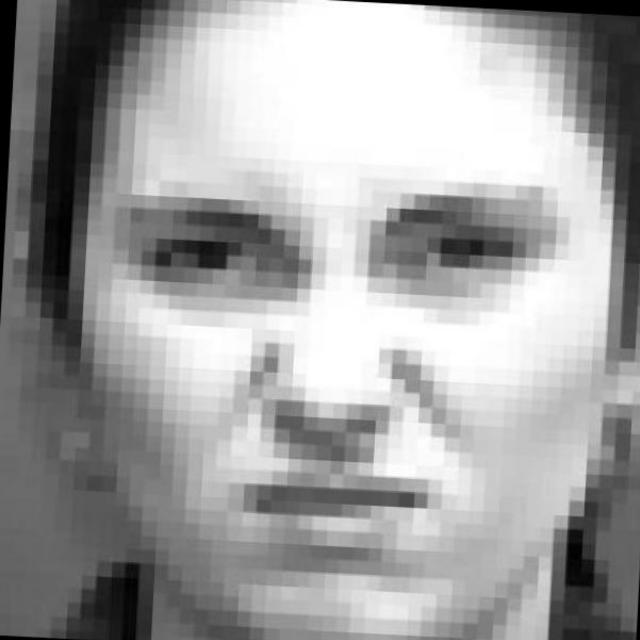Angry: (17, 20, 640, 621)
